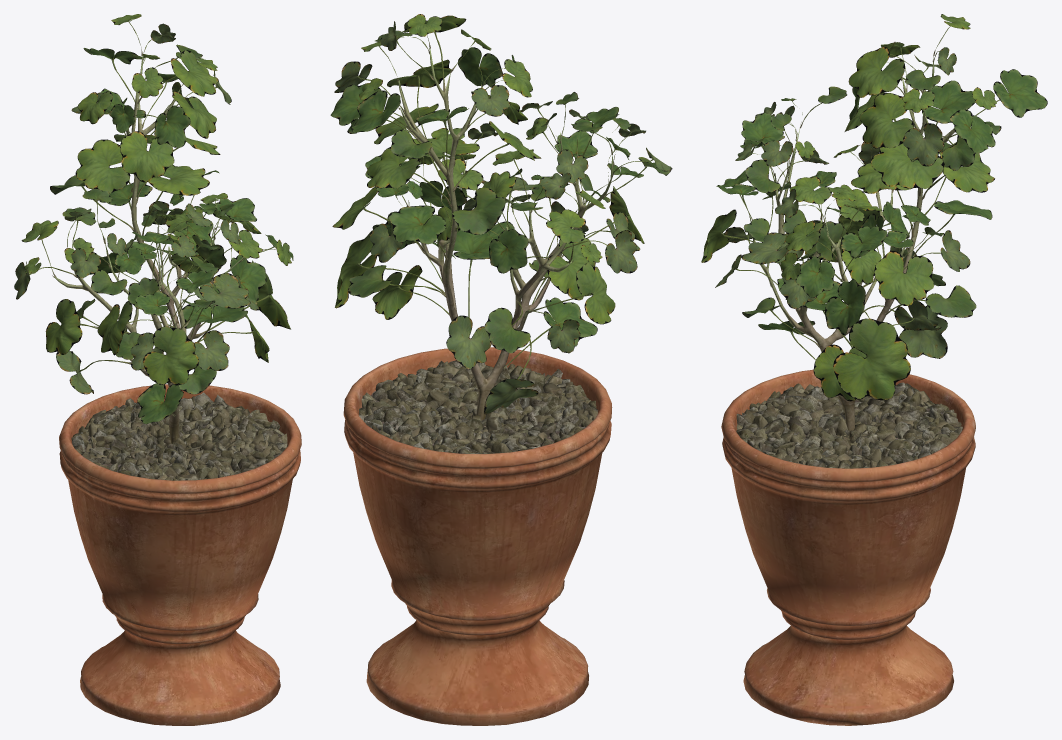
Rendered from ph-potted-plant-01.glb.
The picture shows the model from 3 angles, left to right: view 1: azimuth 30°, elevation 25°; view 2: azimuth 150°, elevation 25°; view 3: azimuth 270°, elevation 25°; orthographic projection. The views are drawn at different scales.
Parts seen in each view (by area): view 1: potted_plant_01_stem, potted_plant_01_leaves; view 2: potted_plant_01_stem, potted_plant_01_leaves; view 3: potted_plant_01_stem, potted_plant_01_leaves.
Boxes of the visible parts, x1=… form: potted_plant_01_stem: x1=54, y1=55, x2=301, y2=725; potted_plant_01_leaves: x1=14, y1=14, x2=293, y2=423; potted_plant_01_stem: x1=343, y1=48, x2=613, y2=725; potted_plant_01_leaves: x1=330, y1=14, x2=672, y2=414; potted_plant_01_stem: x1=721, y1=56, x2=975, y2=725; potted_plant_01_leaves: x1=701, y1=14, x2=1047, y2=401.
Bounding box in the file's own units: 0.5874 × 1.34 × 0.6336.
2 materials, 2 textured.
